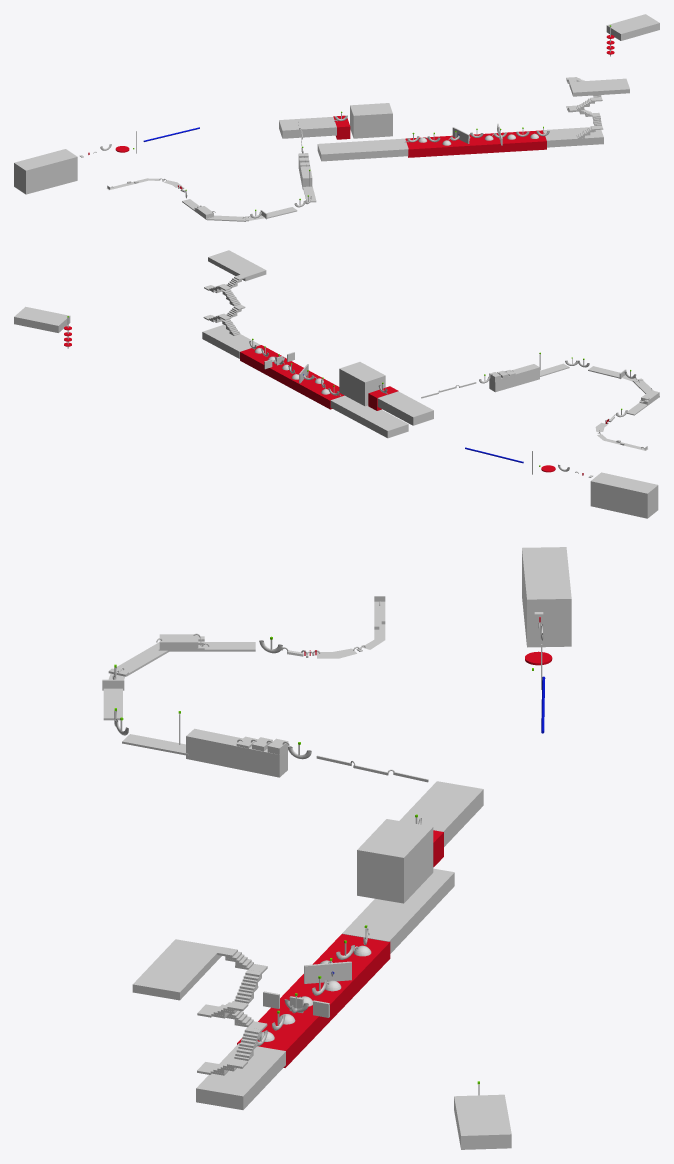
Rendered from BLENDER_niveau1_fil_du_samsara.fbx.
3 renders of one model, top to bottom at view 1: azimuth 30°, elevation 25°; view 2: azimuth 150°, elevation 25°; view 3: azimuth 270°, elevation 25°, orthographic. The views are drawn at different scales.
Visible parts, largest first — view 1: feu_01, sol, sol16.003, sol16.002, sol16.001, sol16.004, sol16.010, sol16.008; view 2: sol, feu_01, sol16.003, sol16.002, sol16.001, sol16.008, sol16.010, sol16.004, sol13; view 3: feu_01, sol16.002, sol, sol16.003, sol16.010, sol16.004, sol16.008, sol16.001, sol13, sol16.009.
Part boxes in pixels (x1,y1,x2,y2): feu_01: [405, 130, 546, 157]; sol: [14, 149, 77, 194]; sol16.003: [317, 138, 408, 161]; sol16.002: [350, 103, 392, 138]; sol16.001: [279, 117, 336, 138]; sol16.004: [543, 127, 603, 147]; sol16.010: [569, 78, 629, 96]; sol16.008: [606, 14, 659, 40]; sol: [590, 472, 658, 518]; feu_01: [240, 345, 344, 409]; sol16.003: [330, 395, 408, 438]; sol16.002: [339, 362, 385, 406]; sol16.001: [377, 391, 433, 425]; sol16.008: [14, 306, 70, 332]; sol16.010: [208, 250, 266, 281]; sol16.004: [202, 325, 260, 358]; sol13: [489, 364, 539, 392]; feu_01: [237, 934, 390, 1067]; sol16.002: [357, 819, 433, 903]; sol: [522, 547, 571, 647]; sol16.003: [342, 868, 454, 953]; sol16.010: [132, 939, 221, 1000]; sol16.004: [196, 1043, 285, 1109]; sol16.008: [454, 1094, 511, 1149]; sol16.001: [399, 781, 483, 846]; sol13: [186, 728, 287, 777]; sol16.009: [304, 961, 351, 983].
Bounding box in the file's own units: 130524 × 13214 × 42819.
